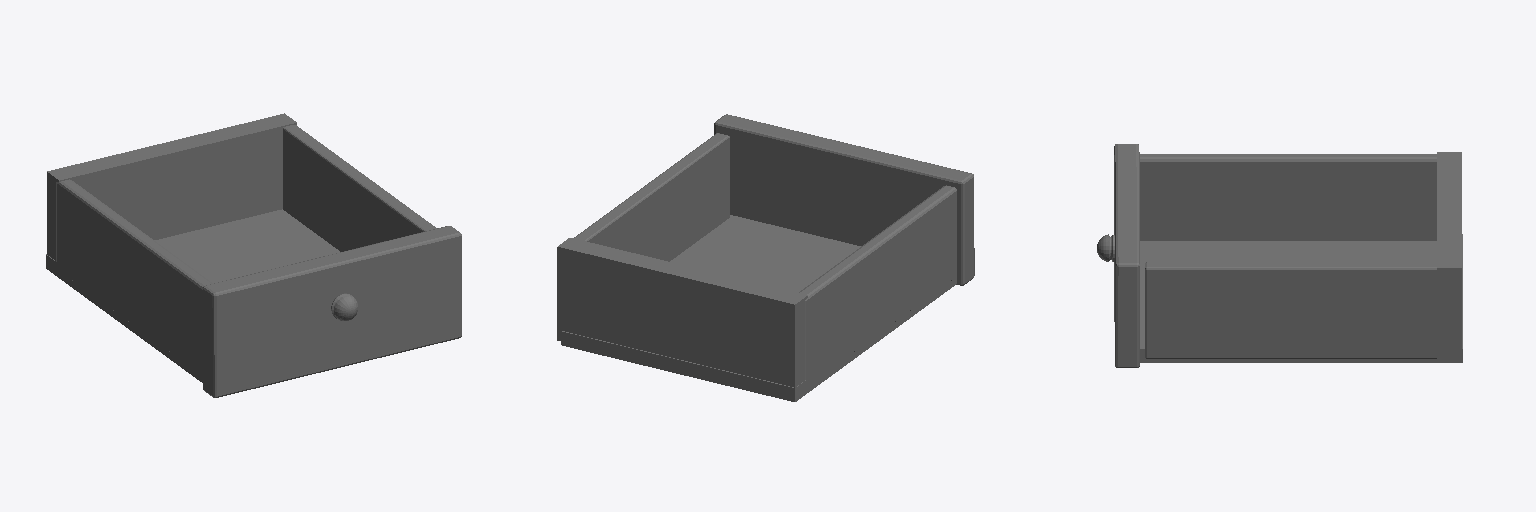
Rendered from Tirroir.obj.
3 views of the same model, side by side, from view 1: azimuth 30°, elevation 25°; view 2: azimuth 150°, elevation 25°; view 3: azimuth 270°, elevation 25° (orthographic).
Visible parts, largest first — view 1: pCube3_Mesh.034, pCube6_Mesh.037, pCube5_Mesh.036, pCube4_Mesh.035, pCube2_Mesh.033, pSphere2_Mesh.038; view 2: pCube6_Mesh.037, pCube3_Mesh.034, pCube5_Mesh.036, pCube2_Mesh.033, pCube4_Mesh.035; view 3: pCube4_Mesh.035, pCube5_Mesh.036, pCube2_Mesh.033, pCube3_Mesh.034, pCube6_Mesh.037.
Part boxes in pixels (x1,y1,x2,y2): pCube3_Mesh.034: (203, 226, 461, 397); pCube6_Mesh.037: (47, 113, 296, 260); pCube5_Mesh.036: (56, 179, 212, 375); pCube4_Mesh.035: (283, 125, 436, 251); pCube2_Mesh.033: (46, 209, 339, 382); pSphere2_Mesh.038: (331, 293, 357, 320); pCube6_Mesh.037: (557, 238, 807, 387); pCube3_Mesh.034: (714, 114, 974, 285); pCube5_Mesh.036: (799, 185, 956, 386); pCube2_Mesh.033: (561, 215, 956, 401); pCube4_Mesh.035: (574, 133, 729, 261); pCube4_Mesh.035: (1145, 262, 1436, 358); pCube5_Mesh.036: (1140, 154, 1436, 240); pCube2_Mesh.033: (1140, 234, 1462, 362); pCube3_Mesh.034: (1114, 144, 1139, 367); pCube6_Mesh.037: (1437, 152, 1461, 361).
Size of the model in its own units: 1.15 by 0.4634 by 1.46.